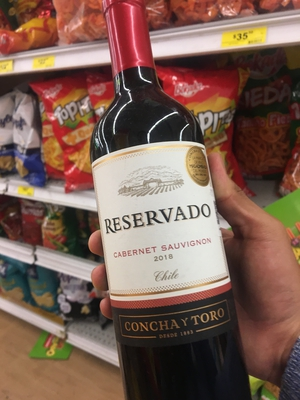reservado cabernet sauvignon: (88, 1, 253, 400)
